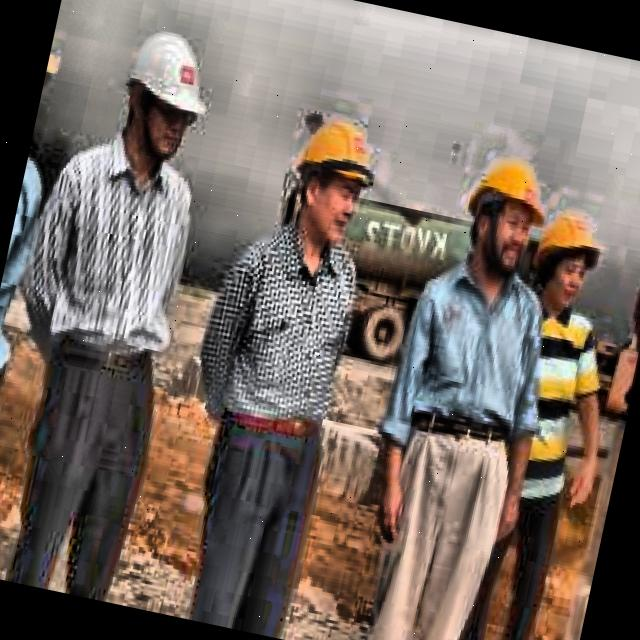helmet: (104, 16, 221, 182), (276, 103, 392, 255), (448, 139, 562, 285), (524, 198, 612, 314)
